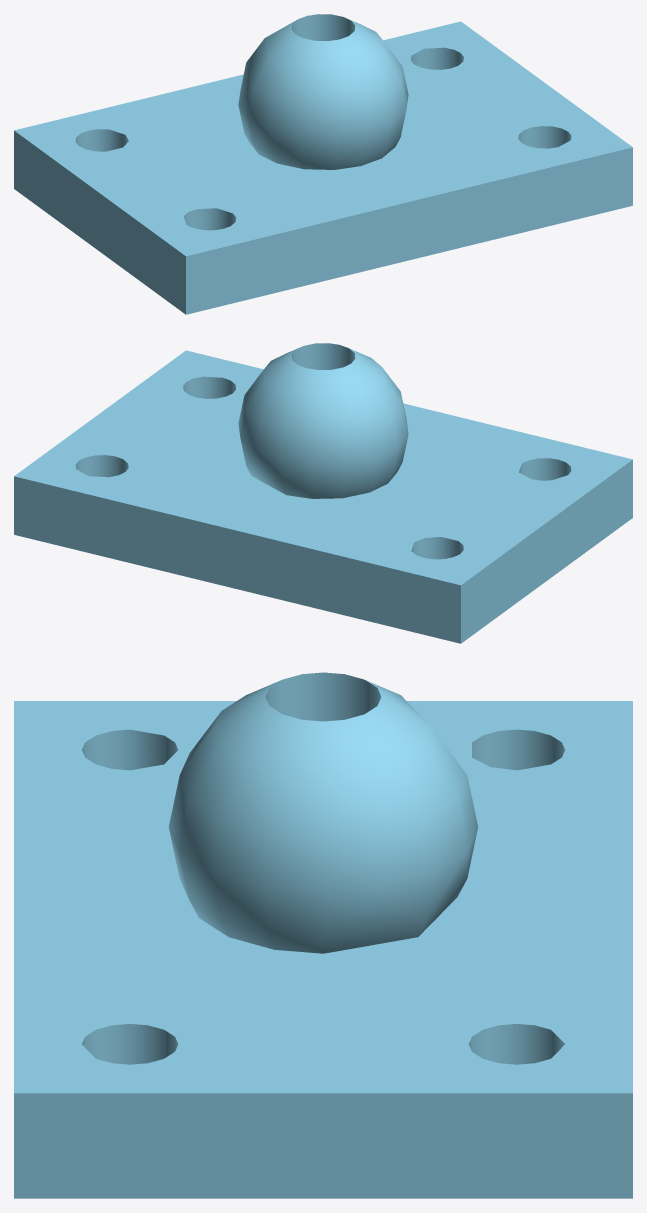
The model's file is boolean_mount_chord_1p5_angle_45.glb.
3 renders of one model, top to bottom at view 1: azimuth 30°, elevation 25°; view 2: azimuth 150°, elevation 25°; view 3: azimuth 270°, elevation 25°, orthographic. The views are drawn at different scales.
Visible parts, largest first — view 1: boolean_mount; view 2: boolean_mount; view 3: boolean_mount.
Part boxes in pixels (x1,y1,x2,y2): boolean_mount: (14,14,632,314); boolean_mount: (14,343,632,643); boolean_mount: (14,672,632,1198).
Size of the model in its own units: 48 by 17.42 by 32.
